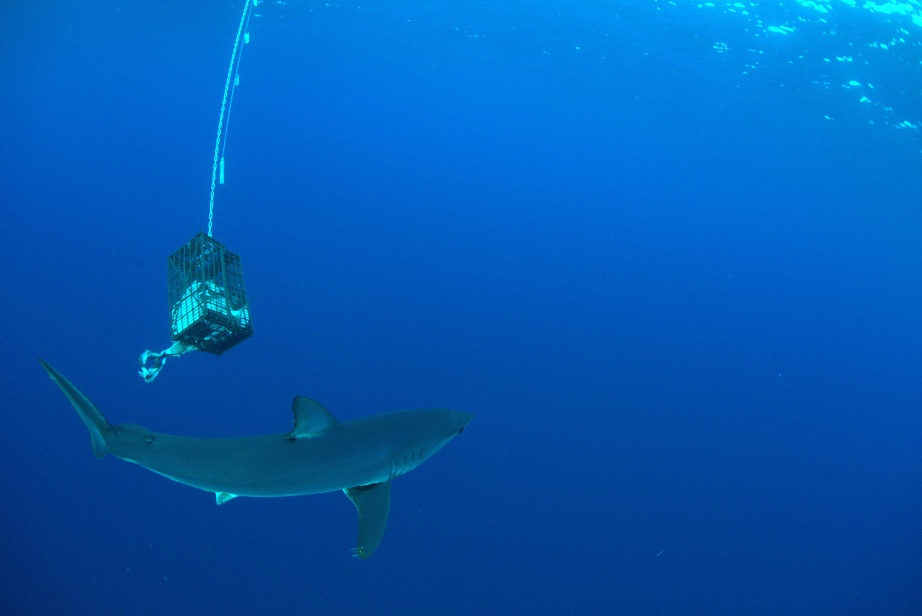Mako: (26, 352, 480, 573)
